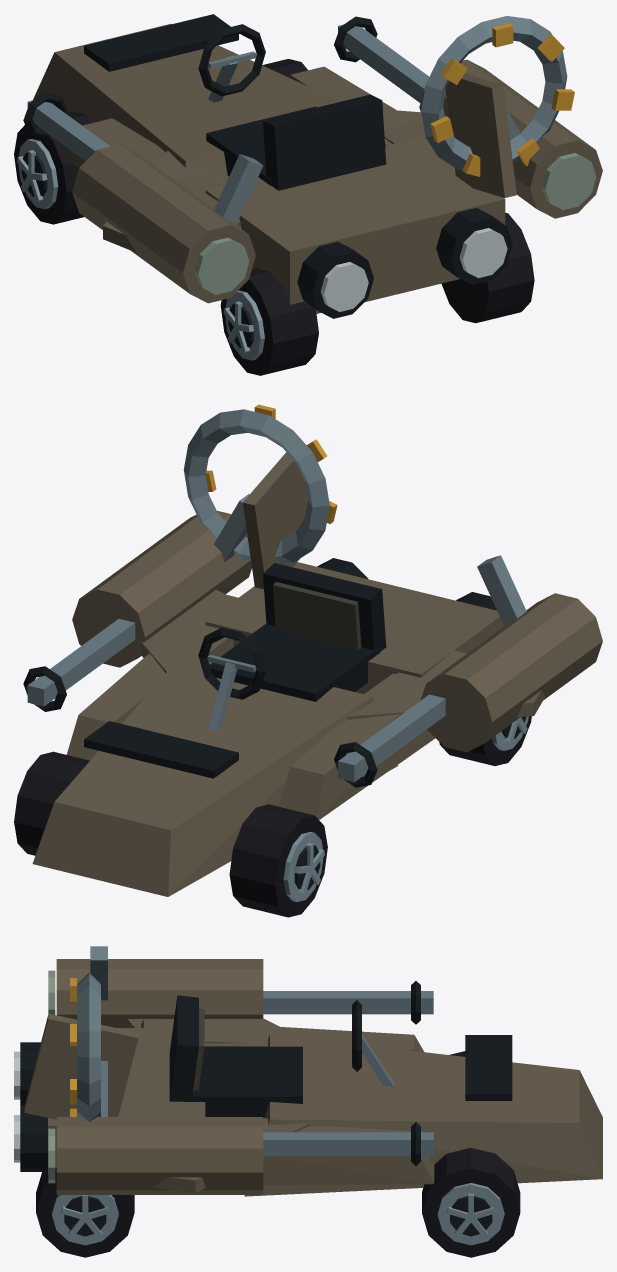
File: kart.glb
3 renders of one model, top to bottom at view 1: azimuth 30°, elevation 25°; view 2: azimuth 150°, elevation 25°; view 3: azimuth 270°, elevation 25°, orthographic. The views are drawn at different scales.
Parts seen in each view (by area): view 1: identity-shuttle-shuttle-flight-planform, identity-shuttle-motif-engine-pods, identity-shuttle-driver-cockpit, identity-shuttle-motif-gate-ring, identity-shuttle-motif-pipes, wheel-rear-left, wheel-front-left, wheel-rear-right, wheel-front-right; view 2: identity-shuttle-shuttle-flight-planform, identity-shuttle-motif-engine-pods, identity-shuttle-driver-cockpit, identity-shuttle-motif-pipes, wheel-front-left, identity-shuttle-motif-gate-ring, wheel-front-right, wheel-rear-left; view 3: identity-shuttle-shuttle-flight-planform, identity-shuttle-motif-engine-pods, identity-shuttle-driver-cockpit, identity-shuttle-motif-pipes, wheel-front-right, wheel-rear-right, identity-shuttle-motif-gate-ring.
Part boxes in pixels (x1=…): identity-shuttle-shuttle-flight-planform: x1=33, y1=14, x2=516, y2=318; identity-shuttle-motif-engine-pods: x1=72, y1=59, x2=602, y2=303; identity-shuttle-driver-cockpit: x1=198, y1=24, x2=386, y2=190; identity-shuttle-motif-gate-ring: x1=421, y1=16, x2=574, y2=176; identity-shuttle-motif-pipes: x1=23, y1=16, x2=520, y2=224; wheel-rear-left: x1=220, y1=268, x2=318, y2=375; wheel-front-left: x1=14, y1=111, x2=92, y2=224; wheel-rear-right: x1=441, y1=212, x2=534, y2=323; wheel-front-right: x1=262, y1=59, x2=307, y2=77; identity-shuttle-shuttle-flight-planform: x1=32, y1=452, x2=545, y2=896; identity-shuttle-motif-engine-pods: x1=72, y1=510, x2=602, y2=752; identity-shuttle-driver-cockpit: x1=198, y1=563, x2=386, y2=731; identity-shuttle-motif-pipes: x1=23, y1=494, x2=526, y2=787; wheel-front-left: x1=229, y1=804, x2=327, y2=917; identity-shuttle-motif-gate-ring: x1=183, y1=404, x2=337, y2=564; wheel-front-right: x1=14, y1=751, x2=89, y2=855; wheel-rear-left: x1=439, y1=716, x2=531, y2=765; identity-shuttle-shuttle-flight-planform: x1=14, y1=1013, x2=602, y2=1196; identity-shuttle-motif-engine-pods: x1=48, y1=959, x2=263, y2=1194; identity-shuttle-driver-cockpit: x1=169, y1=995, x2=393, y2=1118; identity-shuttle-motif-pipes: x1=90, y1=946, x2=433, y2=1165; wheel-front-right: x1=422, y1=1148, x2=520, y2=1257; wheel-rear-right: x1=36, y1=1168, x2=134, y2=1257; identity-shuttle-motif-gate-ring: x1=70, y1=972, x2=100, y2=1122.
Size of the model in its own units: 2.36 by 1.52 by 2.99.
